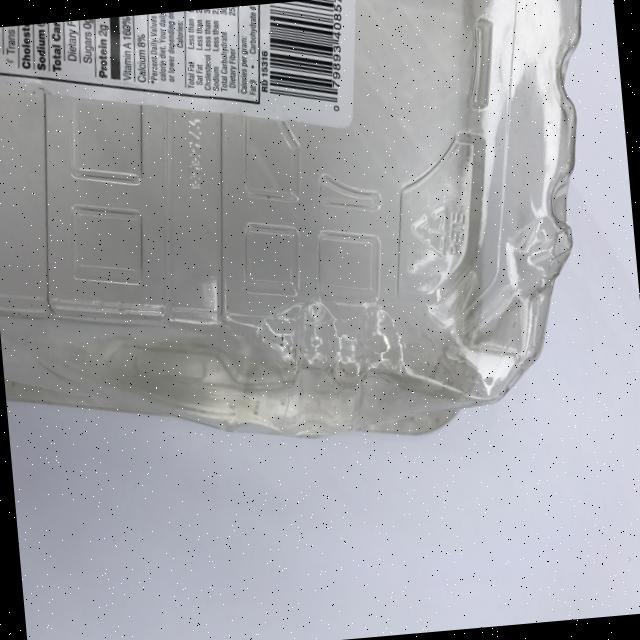plastic: (0, 0, 619, 469)
